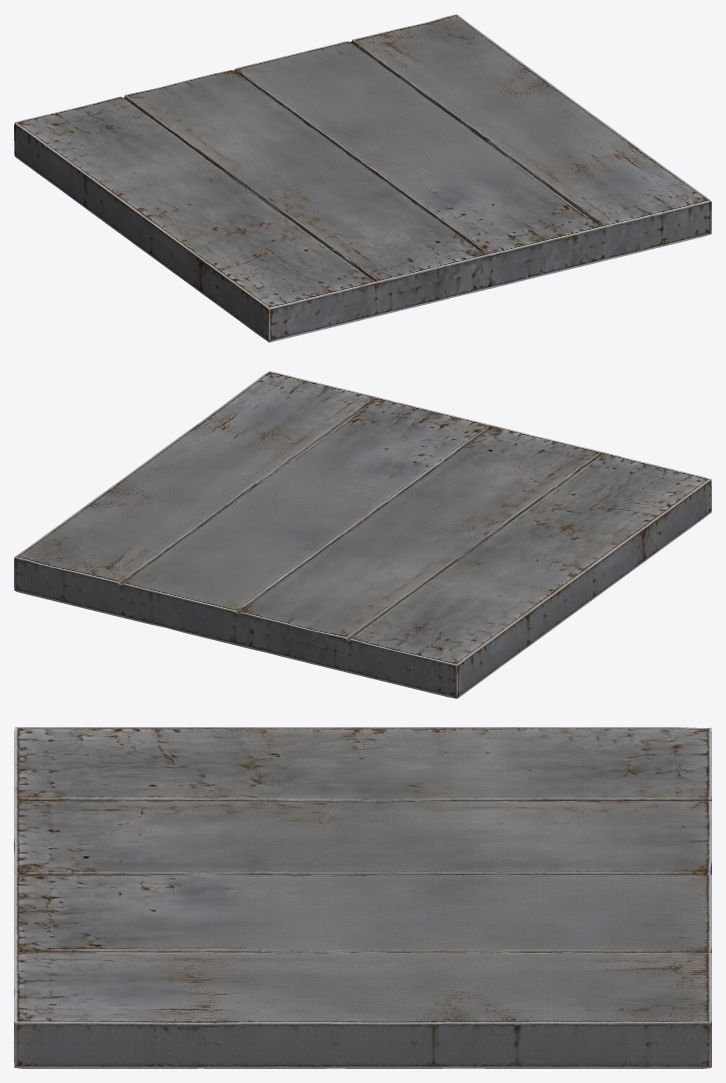
File: ARCH-ROOF-METAL-lod0.glb
3 renders of one model, top to bottom at view 1: azimuth 30°, elevation 25°; view 2: azimuth 150°, elevation 25°; view 3: azimuth 270°, elevation 25°, orthographic. The views are drawn at different scales.
Parts seen in each view (by area): view 1: Mesh; view 2: Mesh; view 3: Mesh.
Part boxes in pixels (left/top/right/bottom): Mesh: left=14, top=14, right=711, bottom=342; Mesh: left=14, top=371, right=711, bottom=698; Mesh: left=14, top=727, right=711, bottom=1068.
Size of the model in its own units: 1.9 by 0.1408 by 1.89.
Materials: 1 (1 with a texture image).
